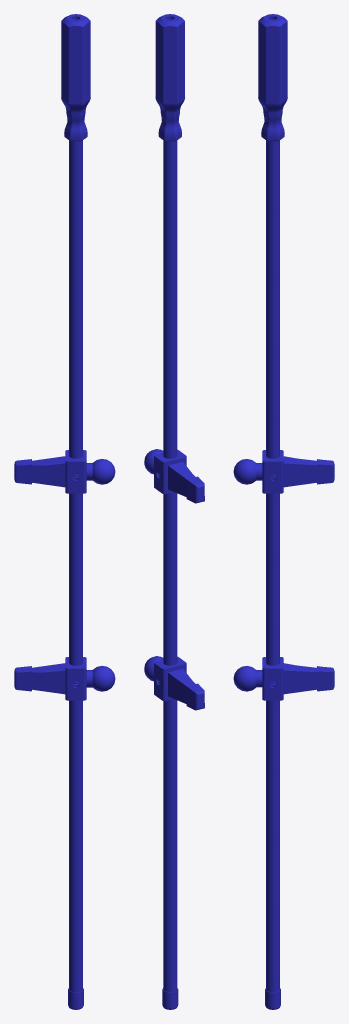
The model's file is 2-bar-centered_team_2.obj.
The picture shows the model from 3 angles, left to right: view 1: azimuth 90°, elevation 25°; view 2: azimuth 210°, elevation 25°; view 3: azimuth 270°, elevation 25°; orthographic projection.
Visible parts, largest first — view 1: 2-bar; view 2: 2-bar; view 3: 2-bar.
Boxes of the visible parts, <box> form: 2-bar: <box>14,14,115,1009</box>; 2-bar: <box>144,14,204,1009</box>; 2-bar: <box>233,14,334,1009</box>.
Size of the model in its own units: 0.032 by 1.24 by 0.115.
